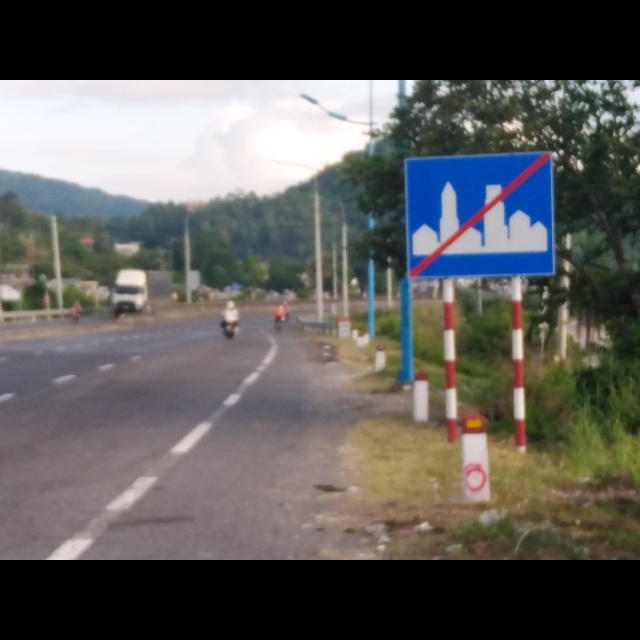Hết khu đông dân cư: (401, 150, 555, 281)
